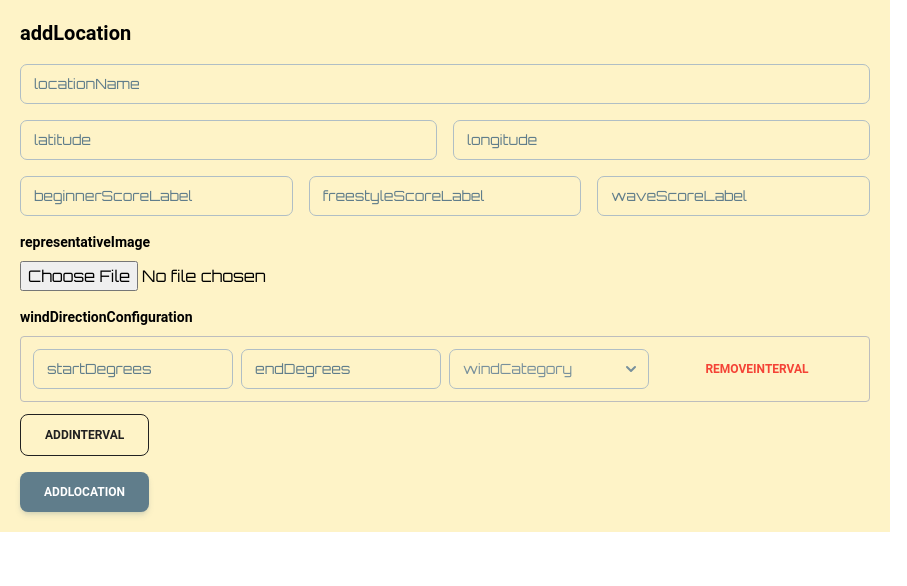
AddLocationForm › blocks submission and shows a validation error when the name is empty
Click the button "addLocation": (84, 492) [20,472,149,512]
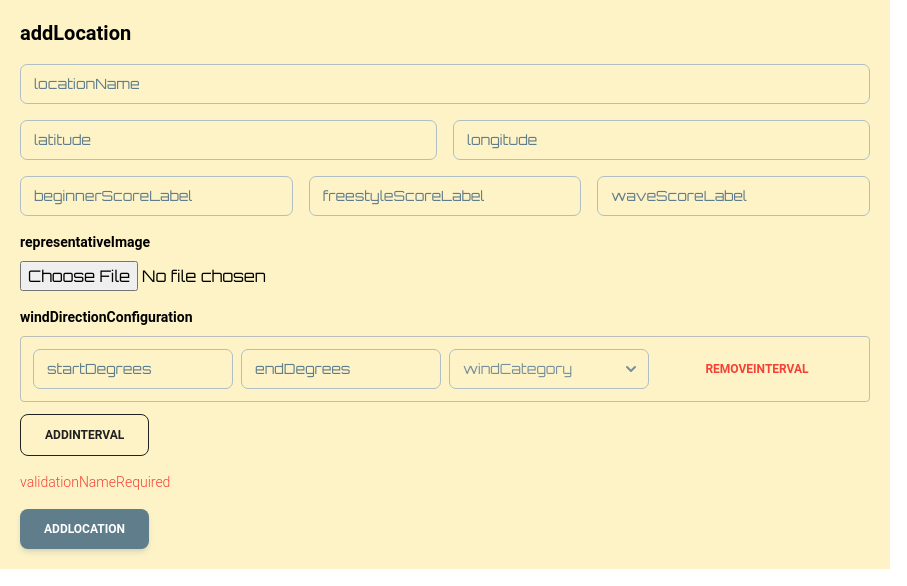
expect the text "validationNameRequired" is shown: met, box [20,474,170,490]
